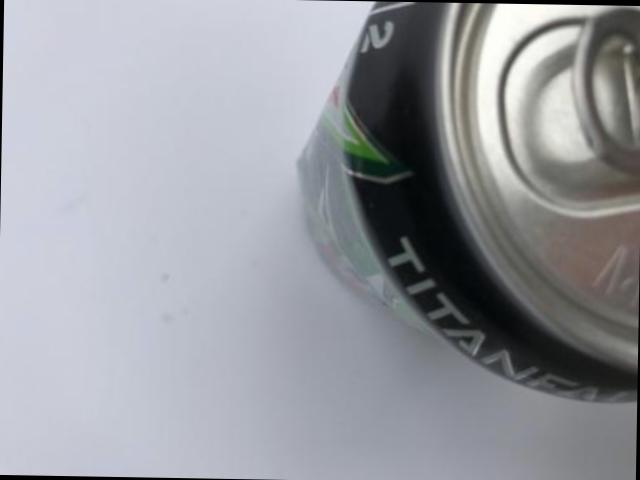metal: (297, 1, 640, 399)
